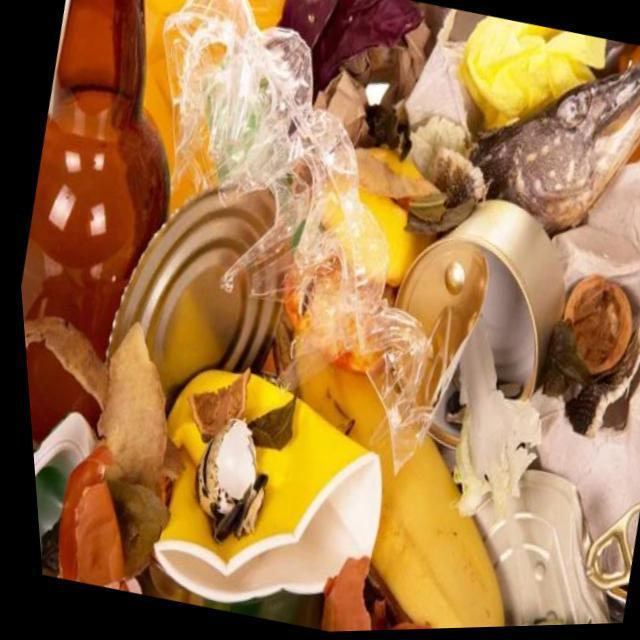Garbage: (17, 0, 640, 633)
Metal: (465, 474, 599, 629), (576, 506, 632, 594)
contaminated_waste: (107, 0, 574, 484), (575, 499, 628, 590)
